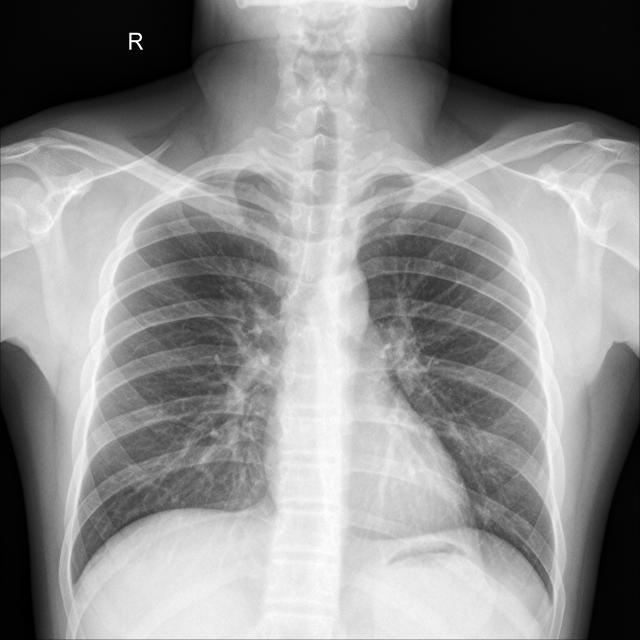no-pneumonia: (72, 172, 290, 579), (359, 202, 555, 588)
